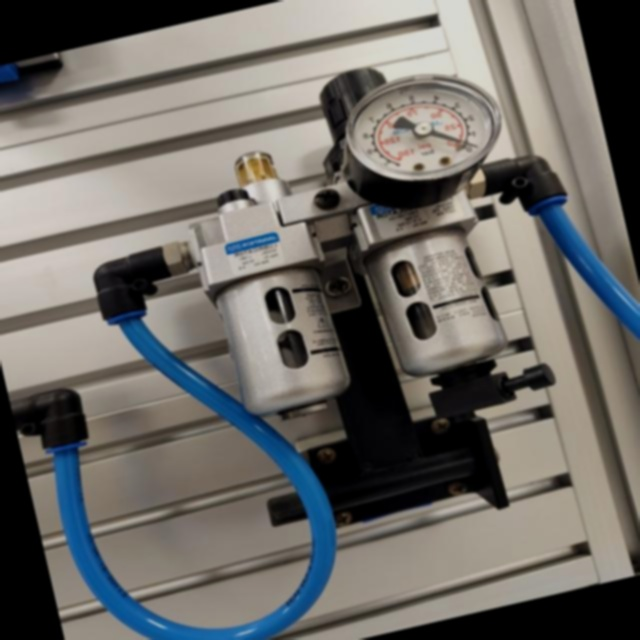FRL unit: (80, 22, 631, 589)
push button: (324, 55, 520, 222)
